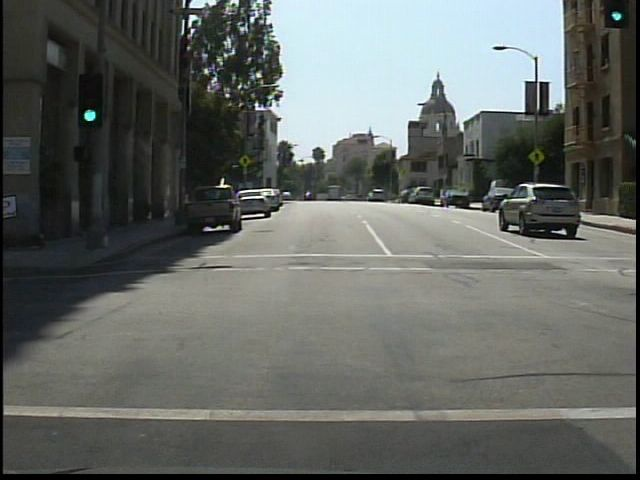person: (3, 161, 8, 257)
